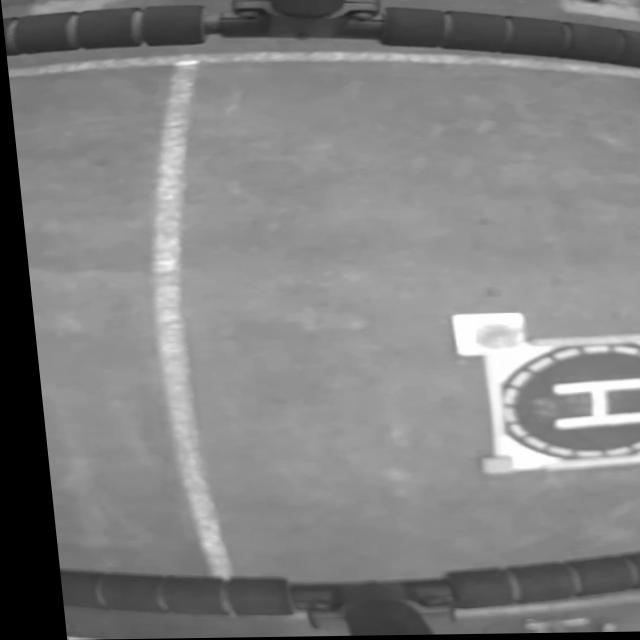Helipad: (539, 379, 640, 432)
